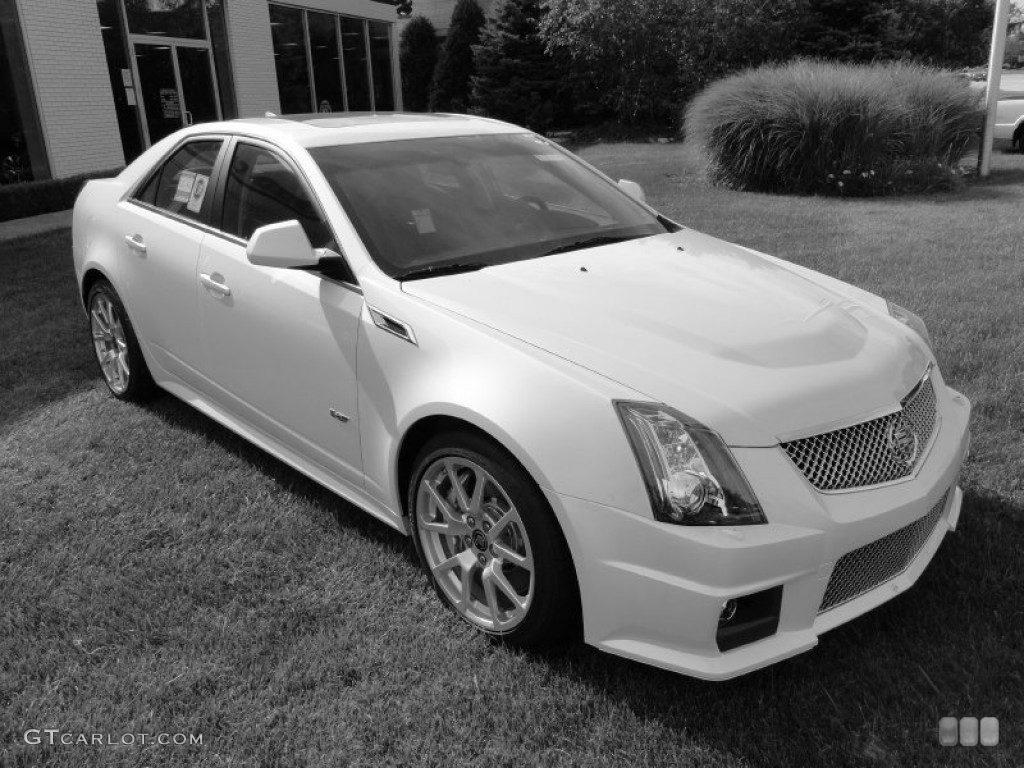car: (68, 105, 978, 690)
